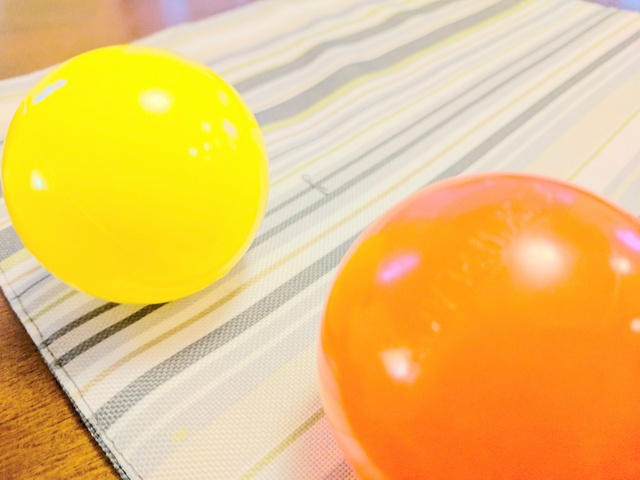ball: (1, 40, 271, 305)
